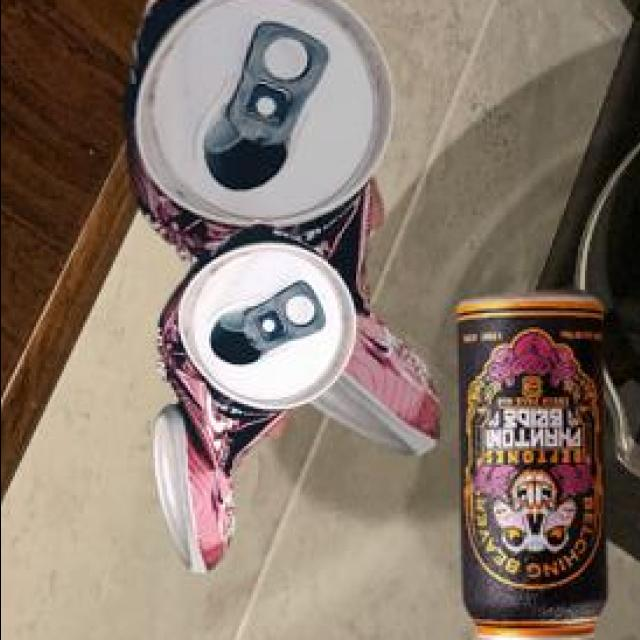logam: (127, 0, 443, 452), (155, 216, 359, 569), (461, 286, 608, 636)
